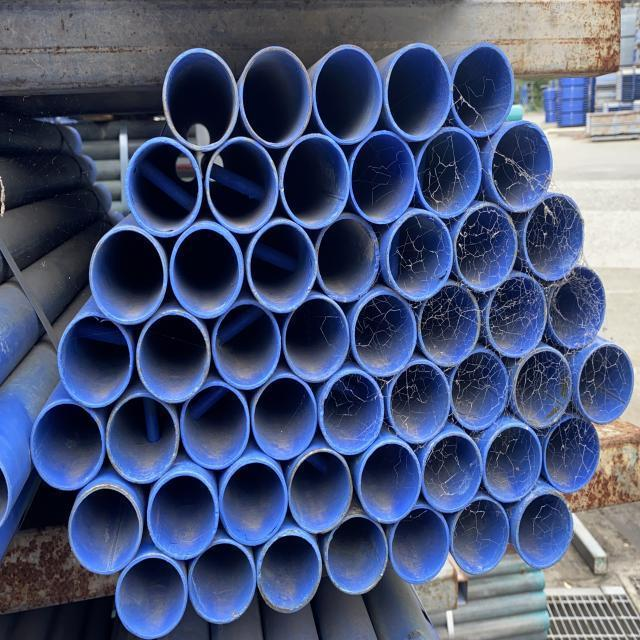pipe: (162, 48, 243, 152), (234, 45, 316, 147), (125, 138, 204, 240), (89, 227, 170, 326), (53, 311, 136, 406), (309, 44, 385, 145), (445, 43, 524, 137), (135, 312, 213, 405), (382, 42, 453, 144), (279, 134, 350, 234), (179, 384, 260, 471), (33, 398, 108, 491), (168, 226, 243, 318), (205, 138, 276, 235), (346, 132, 416, 229), (384, 207, 458, 298), (105, 393, 178, 483), (247, 219, 317, 312), (148, 469, 220, 559), (413, 279, 482, 372), (489, 119, 556, 213), (211, 302, 283, 389), (71, 488, 143, 575), (116, 554, 188, 640), (316, 371, 387, 457), (351, 291, 423, 375), (284, 299, 352, 387), (316, 210, 382, 300), (252, 376, 318, 466), (455, 198, 520, 289), (417, 130, 483, 218), (219, 460, 287, 544), (523, 190, 586, 280), (187, 543, 257, 623), (288, 449, 353, 535), (358, 440, 422, 527), (255, 532, 322, 613), (424, 431, 487, 516), (323, 515, 389, 594), (513, 347, 575, 431), (488, 272, 549, 357), (387, 362, 450, 444), (577, 342, 634, 429), (449, 352, 509, 434), (485, 425, 545, 507), (389, 502, 449, 584), (450, 496, 511, 576), (550, 267, 608, 350), (544, 411, 600, 494), (516, 493, 575, 571)
